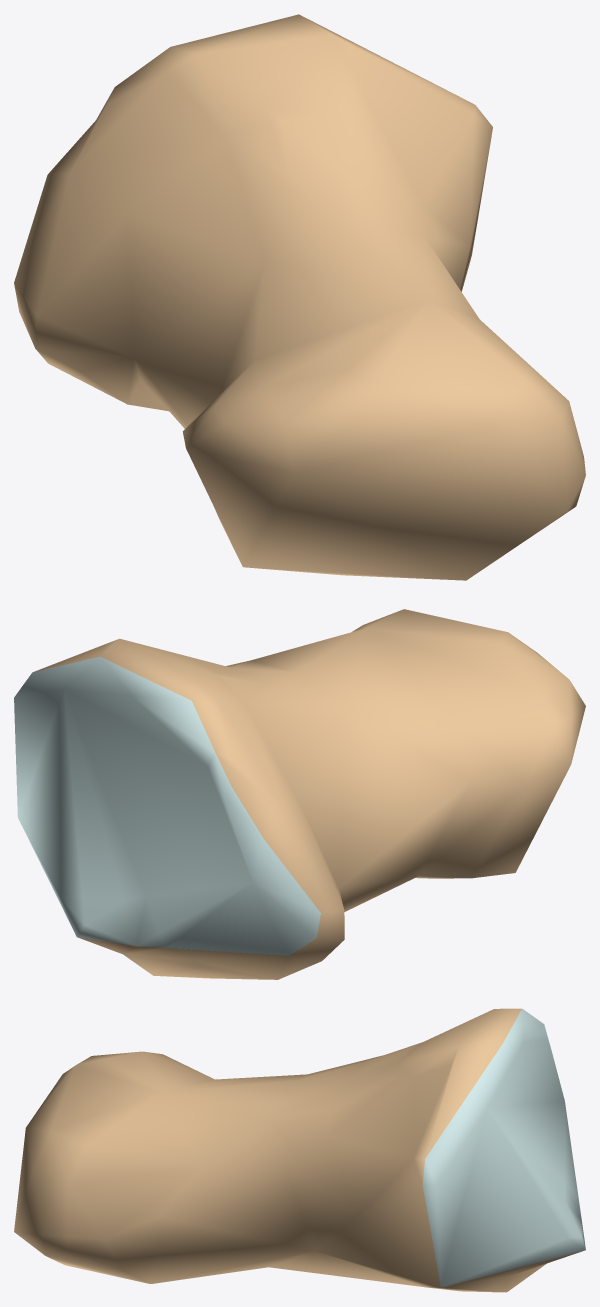
Rendered from Distal_phalanx_of_2d_finger_of_foot.r_Generated_Mesh_From_X3D.8.glb.
3 views of the same model, one above another, from view 1: azimuth 30°, elevation 25°; view 2: azimuth 150°, elevation 25°; view 3: azimuth 270°, elevation 25° (orthographic). The views are drawn at different scales.
Parts seen in each view (by area): view 1: Distal_phalanx_of_2d_finger_of_foot.r_Generated_Mesh_From_X3; view 2: Distal_phalanx_of_2d_finger_of_foot.r_Generated_Mesh_From_X3; view 3: Distal_phalanx_of_2d_finger_of_foot.r_Generated_Mesh_From_X3.
Boxes of the visible parts, x1,y1,x2,y2 form: Distal_phalanx_of_2d_finger_of_foot.r_Generated_Mesh_From_X3: (14,14,585,580); Distal_phalanx_of_2d_finger_of_foot.r_Generated_Mesh_From_X3: (14,609,585,979); Distal_phalanx_of_2d_finger_of_foot.r_Generated_Mesh_From_X3: (14,1008,585,1292).
Size of the model in its own units: 0.0102 by 0.00758 by 0.0137.
